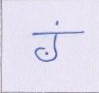anusvara: (55, 21, 60, 26)
